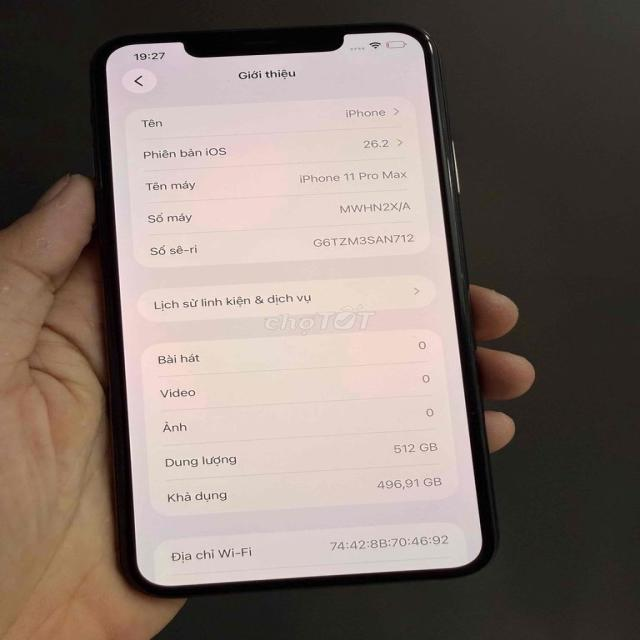gen_11: (92, 12, 512, 602)
